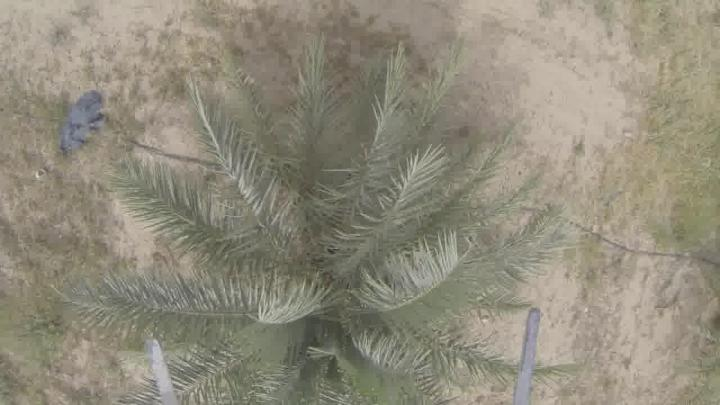Date-Palm-Crown: (175, 139, 448, 405)
